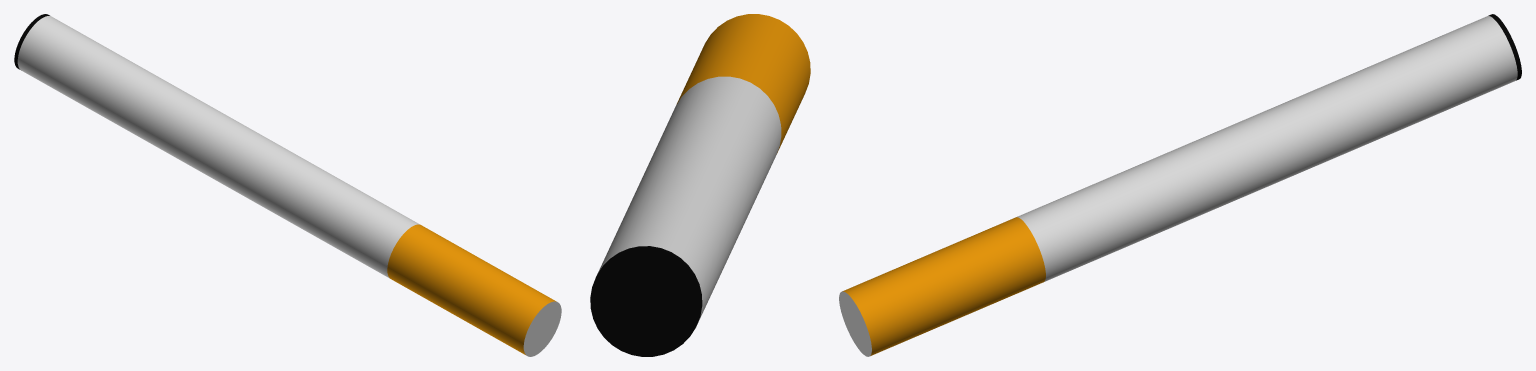
The model's file is tobacco.fbx.
The picture shows the model from 3 angles, left to right: view 1: azimuth 30°, elevation 25°; view 2: azimuth 150°, elevation 25°; view 3: azimuth 270°, elevation 25°; orthographic projection. The views are drawn at different scales.
Parts seen in each view (by area): view 1: Cylinder.172; view 2: Cylinder.172; view 3: Cylinder.172.
Boxes of the visible parts, x1,y1,x2,y2 form: Cylinder.172: [14, 14, 561, 356]; Cylinder.172: [590, 14, 810, 356]; Cylinder.172: [839, 14, 1521, 356].
Bounding box in the file's own units: 21.27 × 14 × 40.29.
